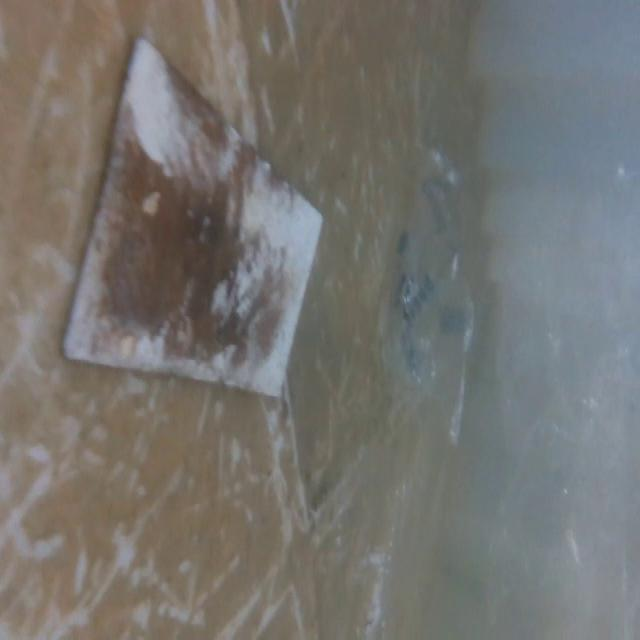metal: (58, 27, 342, 420)
plastic bags: (465, 94, 640, 606), (374, 160, 487, 419)
